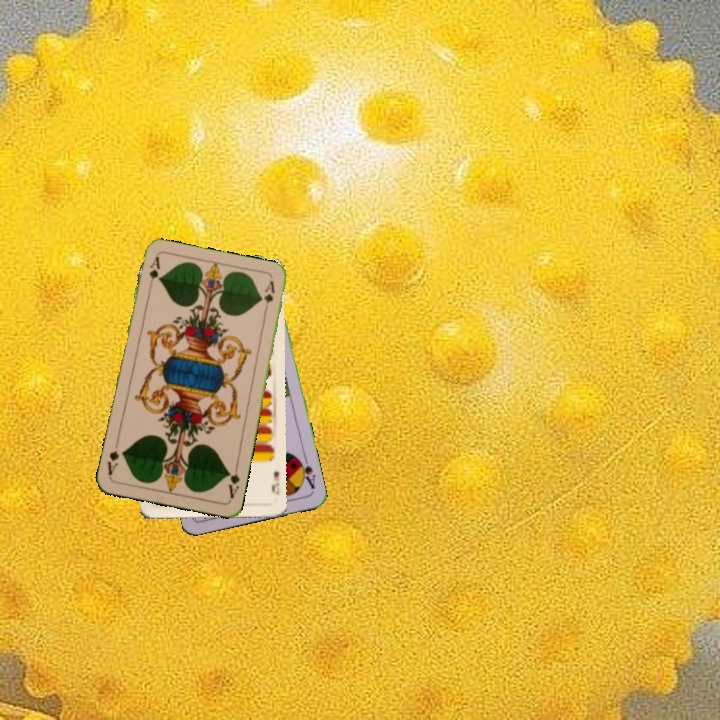E9: (268, 468, 282, 497)
GA: (223, 461, 242, 501), (145, 253, 162, 293)
SA: (294, 453, 318, 491)
